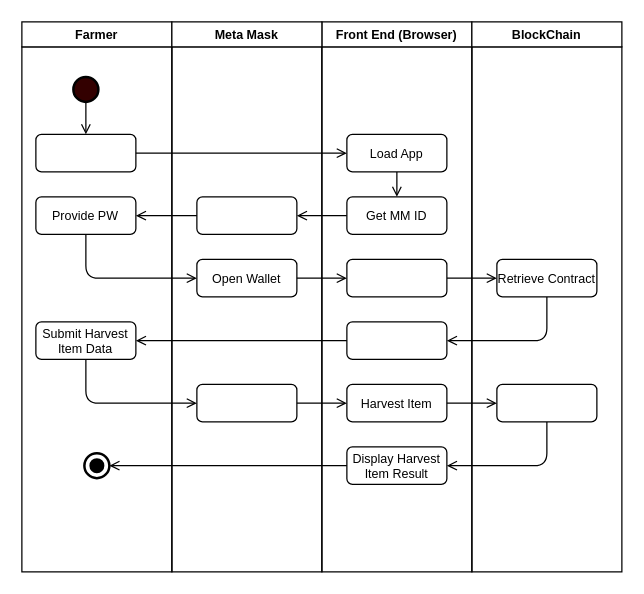
Image size: 644x594. Some labels were removed from this diagram. The centre of each missing label's shape, as x and y in pixels:
"Display Contract" goes at [396,340].
"Get Contract (SC)" goes at [396,277].
"Open App" goes at [85,152].
"Process Harvest Item" goes at [546,402].
"Request Confirmation" goes at [246,402].
"Request MM Login" goes at [246,215].
